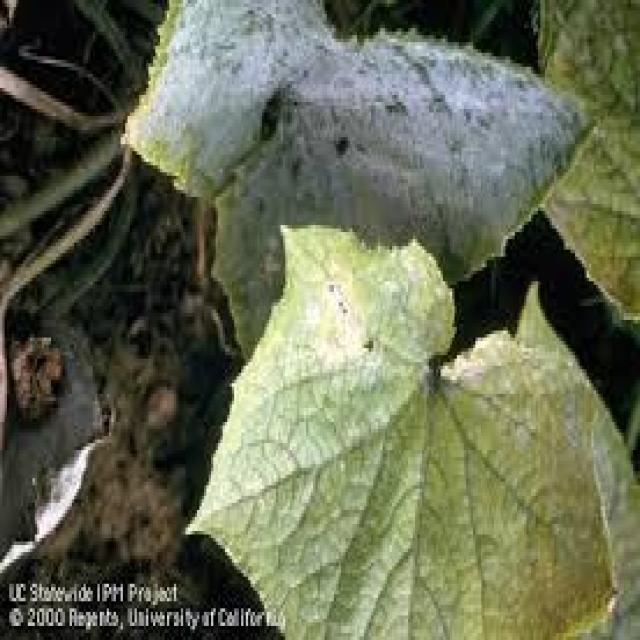powdery-mildew: (180, 1, 525, 268)
